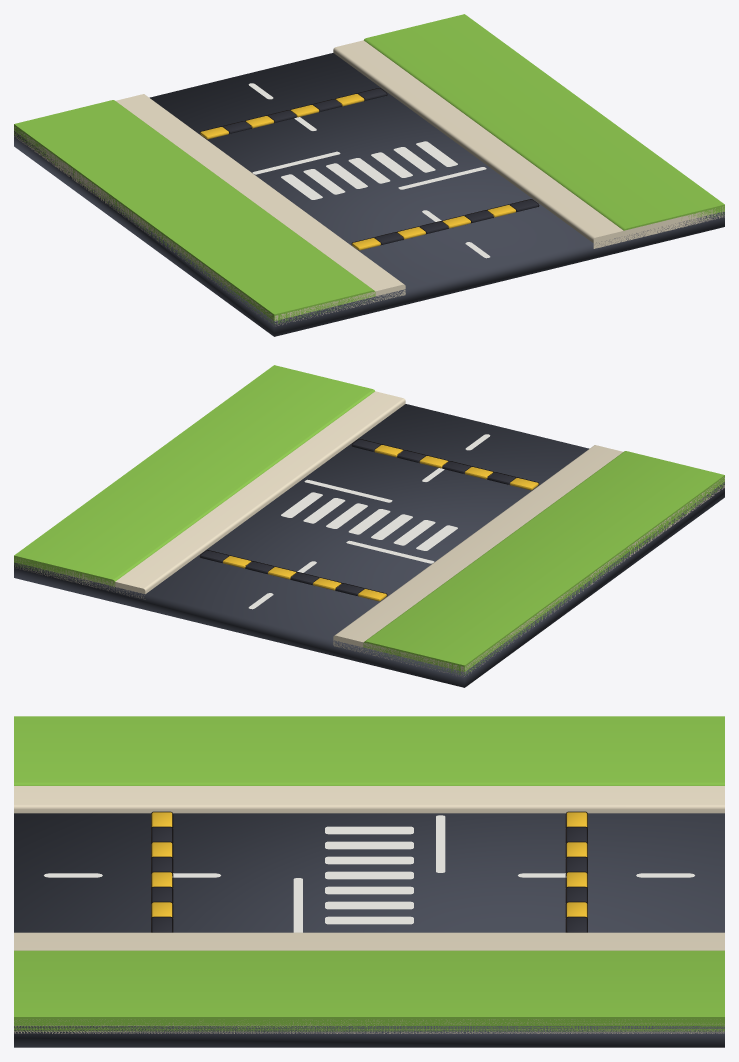
Rendered from Road_Crosswalk.fbx.
3 renders of one model, top to bottom at view 1: azimuth 30°, elevation 25°; view 2: azimuth 150°, elevation 25°; view 3: azimuth 270°, elevation 25°, orthographic. The views are drawn at different scales.
Parts seen in each view (by area): view 1: Tile_Road_Crosswalk_Grass, Tile_Road_Crosswalk_Asphalt, Tile_Road_Crosswalk_Sidewalk, Tile_Road_Crosswalk_LineWhite, Tile_Road_Crosswalk_Yellow, Tile_Road_Crosswalk_Black, Tile_Road_Crosswalk_Outline; view 2: Tile_Road_Crosswalk_Grass, Tile_Road_Crosswalk_Asphalt, Tile_Road_Crosswalk_Sidewalk, Tile_Road_Crosswalk_LineWhite, Tile_Road_Crosswalk_Yellow, Tile_Road_Crosswalk_Black, Tile_Road_Crosswalk_Outline; view 3: Tile_Road_Crosswalk_Grass, Tile_Road_Crosswalk_Asphalt, Tile_Road_Crosswalk_Sidewalk, Tile_Road_Crosswalk_LineWhite, Tile_Road_Crosswalk_Black, Tile_Road_Crosswalk_Yellow, Tile_Road_Crosswalk_Outline.
Boxes of the visible parts, x1,y1,x2,y2 form: Tile_Road_Crosswalk_Grass: (14, 14, 724, 324); Tile_Road_Crosswalk_Asphalt: (14, 53, 724, 336); Tile_Road_Crosswalk_Sidewalk: (14, 40, 724, 325); Tile_Road_Crosswalk_LineWhite: (248, 83, 490, 258); Tile_Road_Crosswalk_Yellow: (200, 94, 515, 250); Tile_Road_Crosswalk_Black: (223, 88, 538, 244); Tile_Road_Crosswalk_Outline: (199, 88, 539, 245); Tile_Road_Crosswalk_Grass: (14, 365, 724, 675); Tile_Road_Crosswalk_Asphalt: (14, 404, 724, 687); Tile_Road_Crosswalk_Sidewalk: (15, 391, 724, 676); Tile_Road_Crosswalk_LineWhite: (248, 434, 490, 609); Tile_Road_Crosswalk_Yellow: (223, 445, 538, 601); Tile_Road_Crosswalk_Black: (200, 439, 515, 595); Tile_Road_Crosswalk_Outline: (199, 439, 539, 596); Tile_Road_Crosswalk_Grass: (14, 716, 724, 1031); Tile_Road_Crosswalk_Asphalt: (14, 813, 724, 1047); Tile_Road_Crosswalk_Sidewalk: (14, 786, 724, 1033); Tile_Road_Crosswalk_LineWhite: (44, 815, 694, 932); Tile_Road_Crosswalk_Black: (151, 827, 587, 932); Tile_Road_Crosswalk_Yellow: (151, 812, 587, 917); Tile_Road_Crosswalk_Outline: (151, 811, 587, 932).
Size of the model in its own units: 24 by 1.14 by 24.
